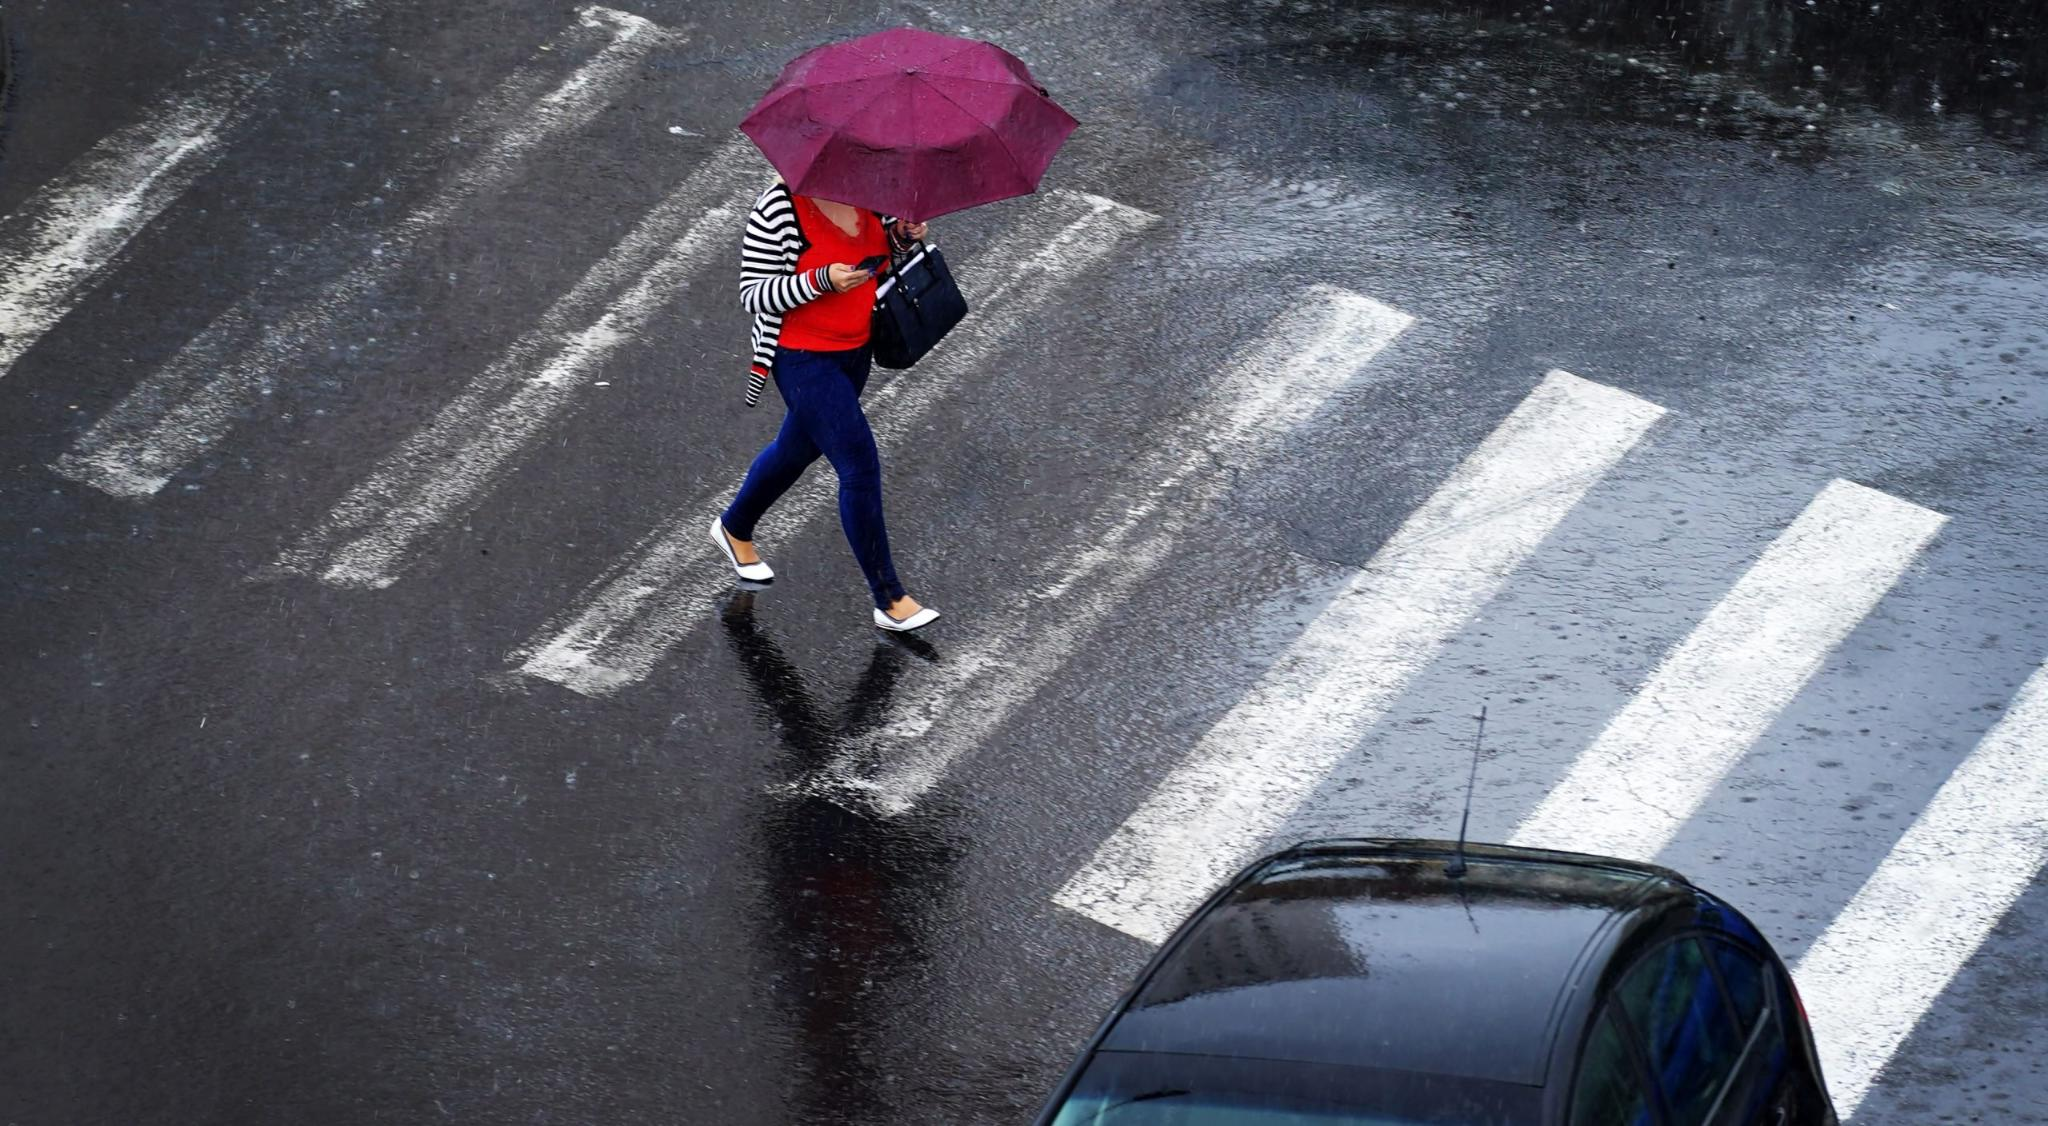faded_road_lines: (1052, 372, 1667, 943), (779, 284, 1416, 818), (50, 6, 682, 498), (272, 126, 810, 589), (1506, 480, 1948, 860), (0, 0, 380, 377), (1794, 657, 2047, 1119), (865, 189, 1158, 440), (512, 516, 715, 696), (767, 498, 822, 548)
